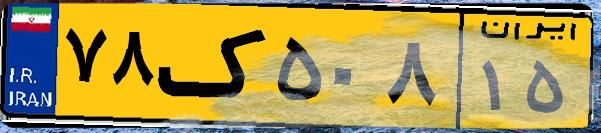0: (330, 28, 385, 110)
1: (475, 38, 525, 113)
5: (270, 28, 330, 110), (525, 38, 570, 115)
7: (57, 26, 110, 100)
8: (385, 28, 445, 110), (110, 28, 158, 98)
ک: (158, 12, 270, 120)
